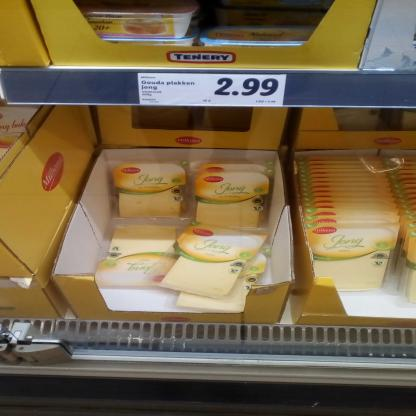prtg: (139, 74, 288, 108)
